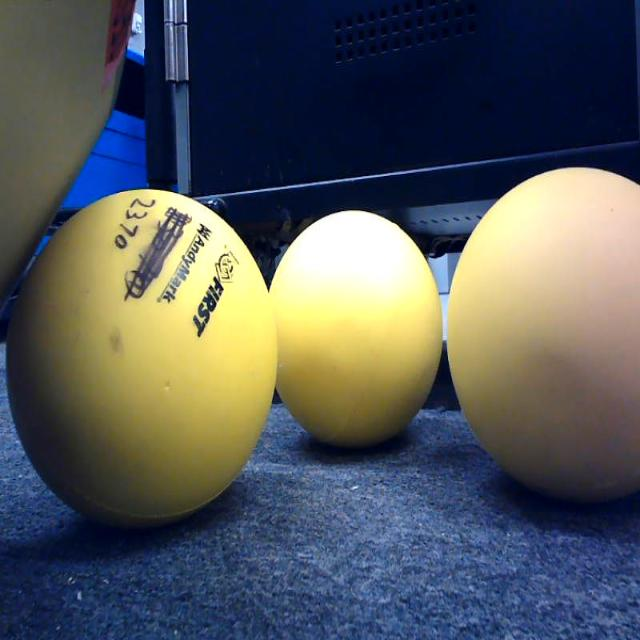Fuel: (4, 187, 276, 534), (446, 166, 639, 509), (266, 210, 442, 455)
